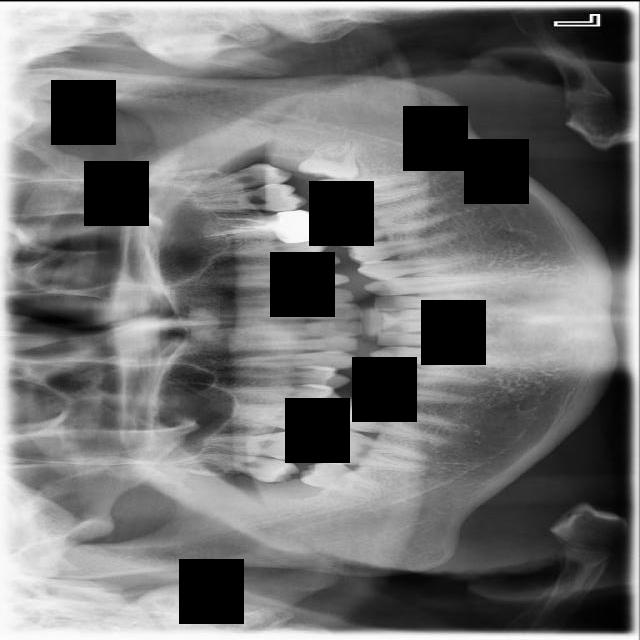3M ESPE Implant: (189, 445, 303, 487)
52: (326, 203, 380, 253), (271, 206, 322, 245)
73: (193, 211, 283, 241), (558, 13, 578, 29)
BioHorizons Implant: (189, 179, 310, 212)
BioLife Implant: (187, 157, 292, 198)
Biomet 3i Implant: (296, 132, 361, 182)
Blue Sky Bio Implant: (305, 174, 429, 214)
Caries: (192, 430, 316, 459)
Implant: (314, 426, 433, 470)
Keystone Dental Implant: (297, 448, 388, 508)
